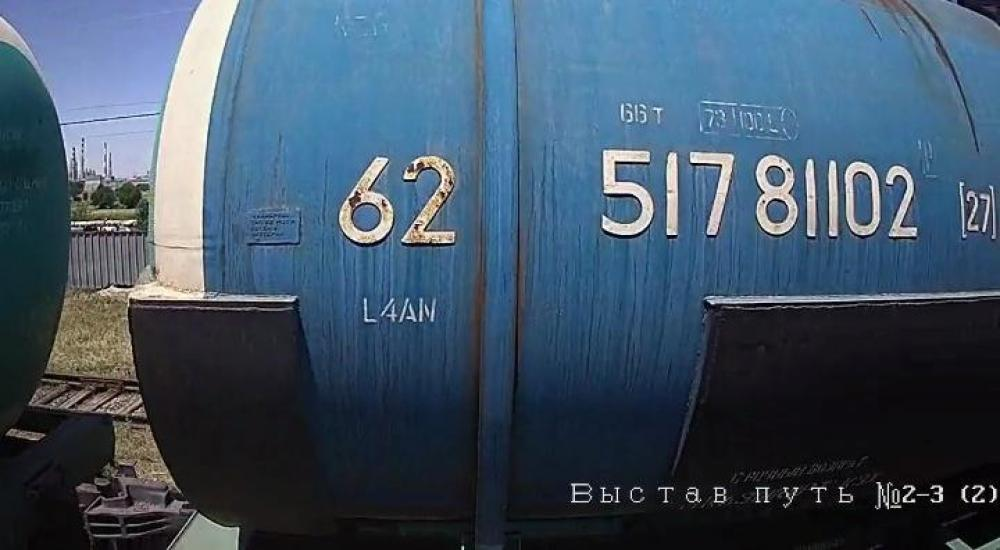Wagon-number: (594, 143, 923, 248)
